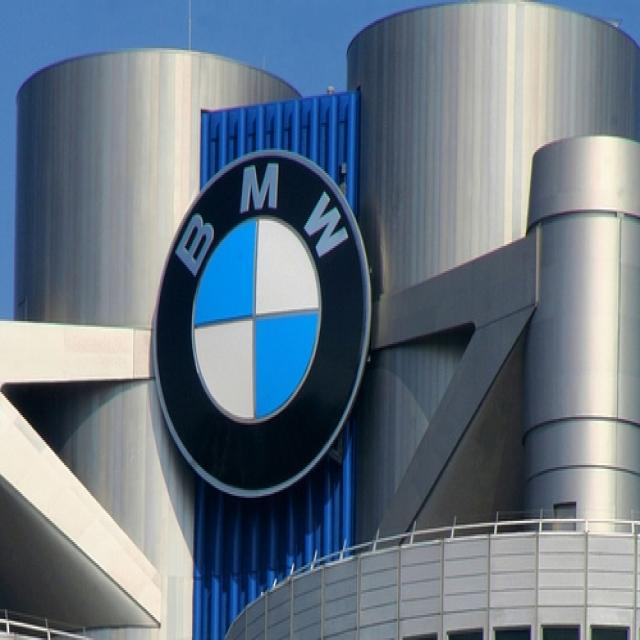bmw: (148, 145, 376, 507)
